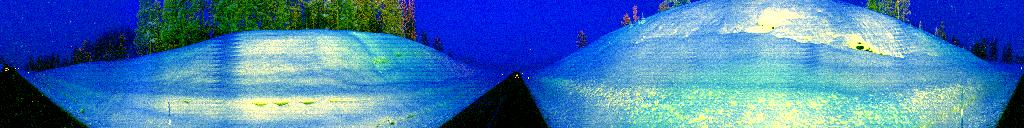pole: (958, 84, 966, 128), (166, 98, 173, 128)
